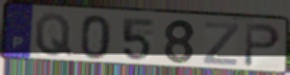0: (79, 14, 113, 61)
5: (121, 17, 156, 62)
8: (163, 18, 196, 65)
P: (242, 22, 283, 69)
Q: (33, 12, 74, 58)
Z: (201, 21, 241, 67)
